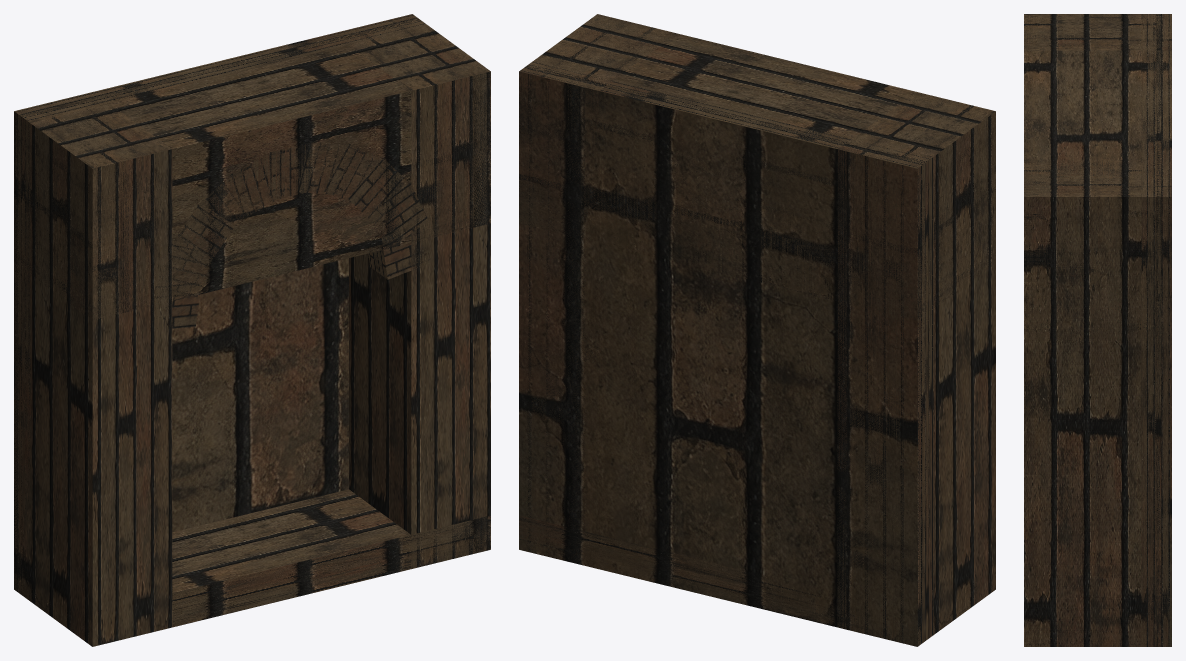
Rendered from hearth.glb.
3 views of the same model, side by side, from view 1: azimuth 30°, elevation 25°; view 2: azimuth 150°, elevation 25°; view 3: azimuth 270°, elevation 25° (orthographic). The views are drawn at different scales.
Visible parts, largest first — view 1: hearth; view 2: hearth; view 3: hearth.
Part boxes in pixels (x1,y1,x2,y2): hearth: [14, 14, 490, 646]; hearth: [519, 14, 995, 646]; hearth: [1024, 14, 1171, 646].
Size of the model in its own units: 1.7 by 1.95 by 0.58.
1 material, 1 textured.
